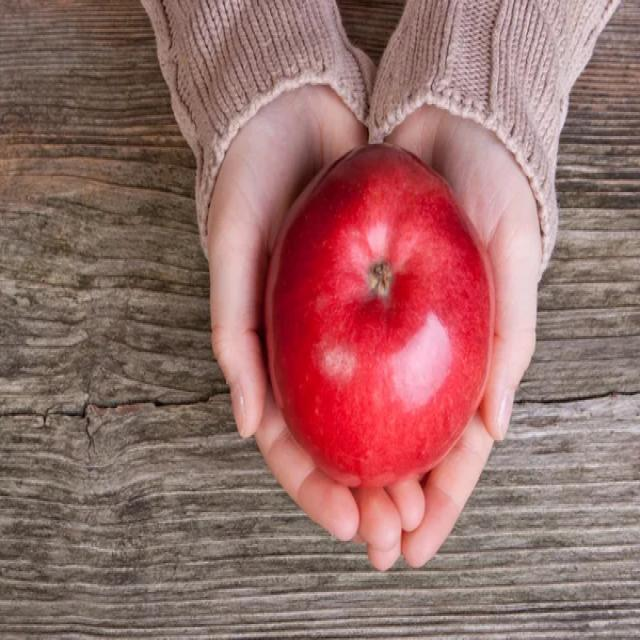Fresh Apple: (273, 140, 497, 500)
